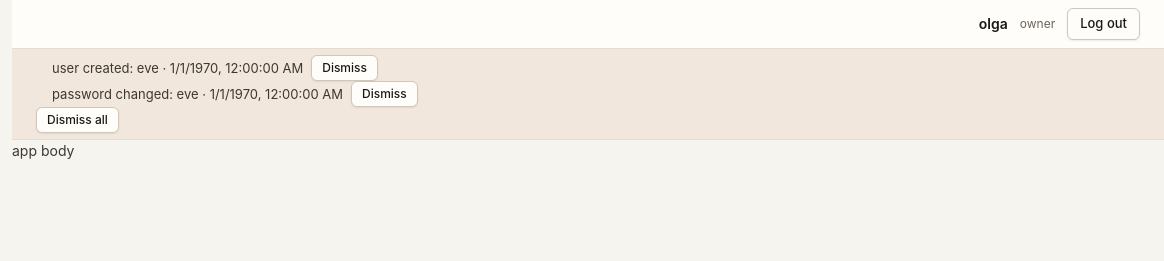
Test: AuthGate (spec §7) › shows a refusal and offers Dismiss all again when an acknowledgement request fails outright (spec §6 I4)
Click the button "Dismiss all" at (77, 120), box [36, 107, 119, 133]
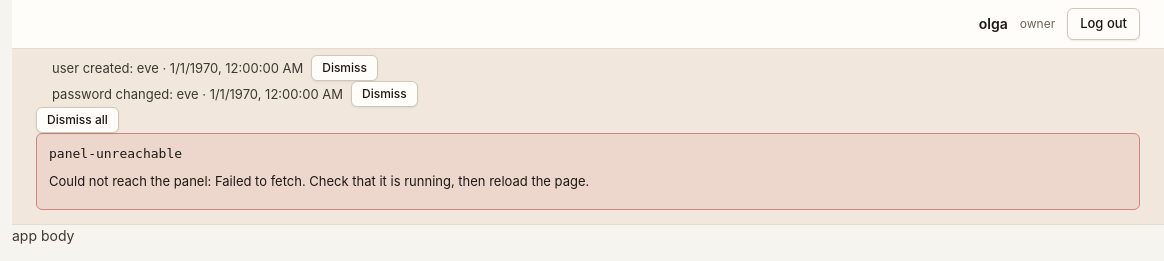
Expected: the 1st button "Dismiss" is enabled, [311, 55, 378, 81]
Expected: the text "panel-unreachable" is shown, [49, 146, 182, 161]
